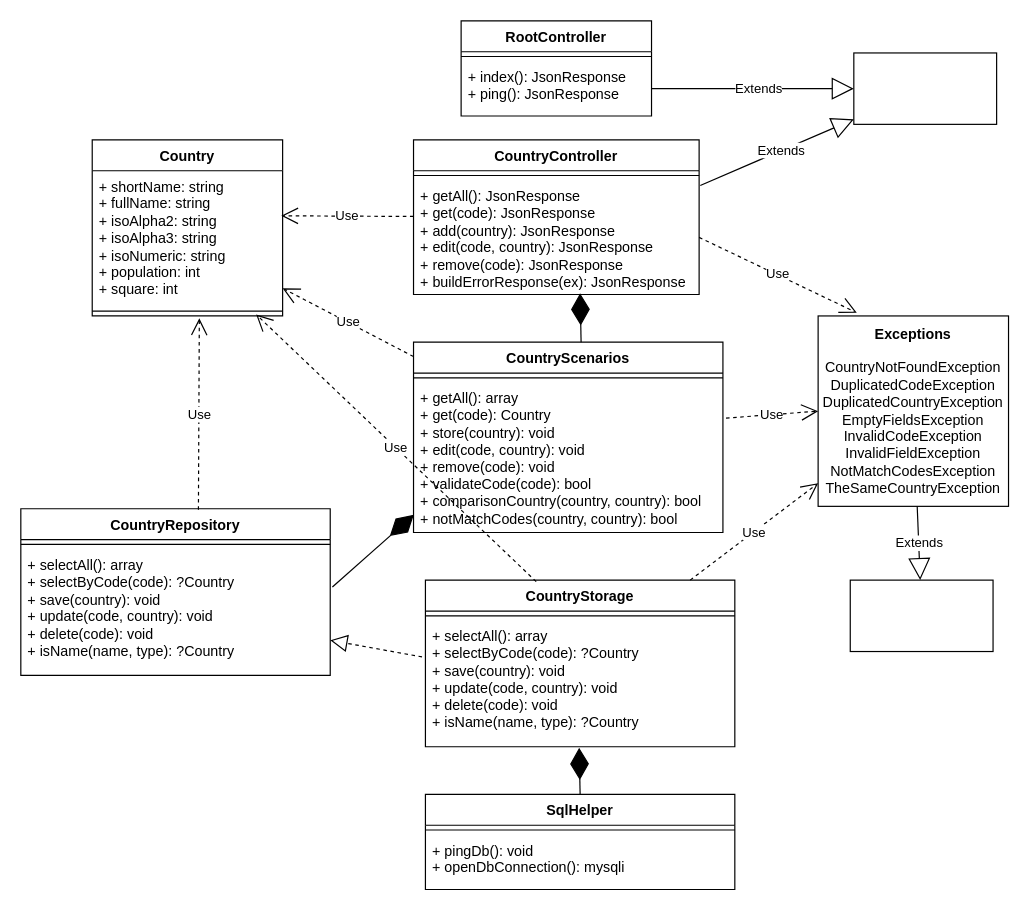
This 1029x914 diagram has some shape labels left out. Each missing label, with the centre of its shape:
AbstractController: point 925,88
Exception: point 921,615
